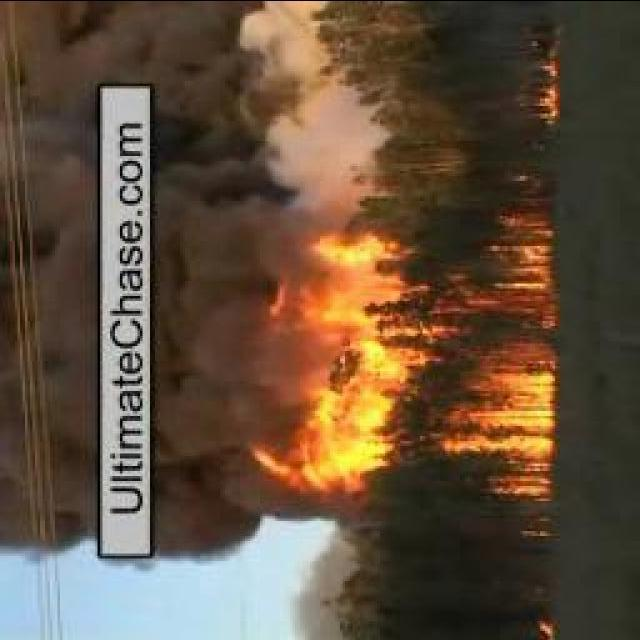Fire: (255, 222, 556, 494), (525, 55, 558, 124)
